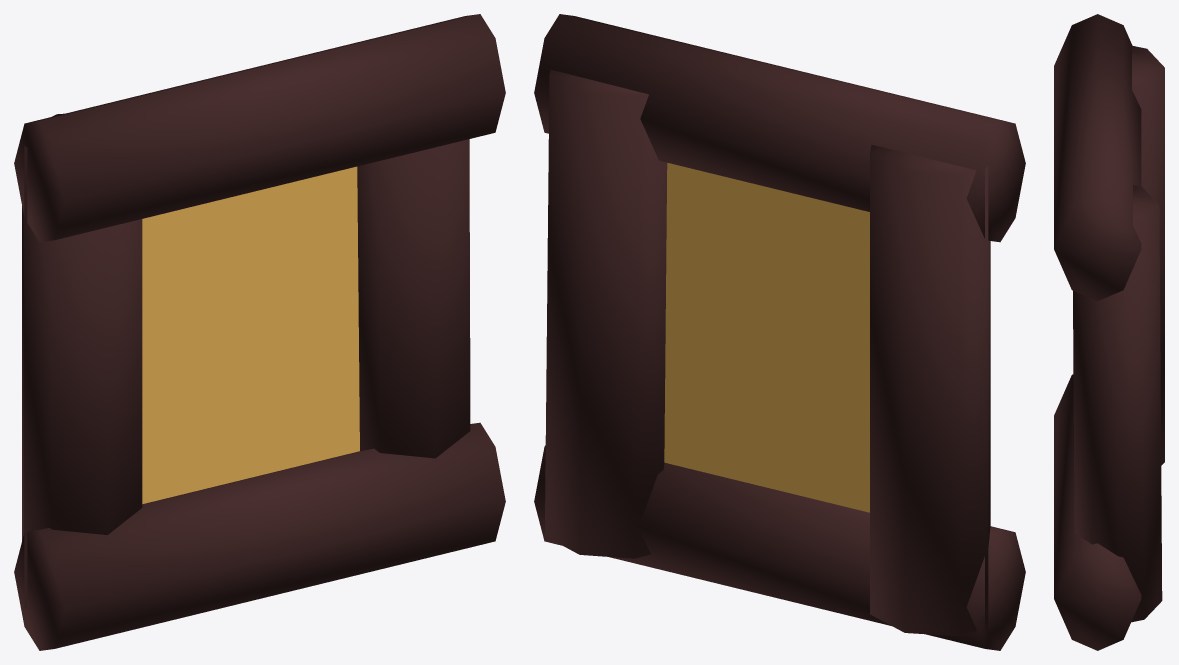
The model's file is Window.fbx.
The picture shows the model from 3 angles, left to right: view 1: azimuth 30°, elevation 25°; view 2: azimuth 150°, elevation 25°; view 3: azimuth 270°, elevation 25°; orthographic projection. The views are drawn at different scales.
Parts seen in each view (by area): view 1: Window; view 2: Window; view 3: Window.
Boxes of the visible parts, x1,y1,x2,y2 form: Window: (14, 14, 505, 650); Window: (534, 14, 1025, 650); Window: (1054, 14, 1164, 650).
Bounding box in the file's own units: 83.95 × 96.05 × 21.28.
